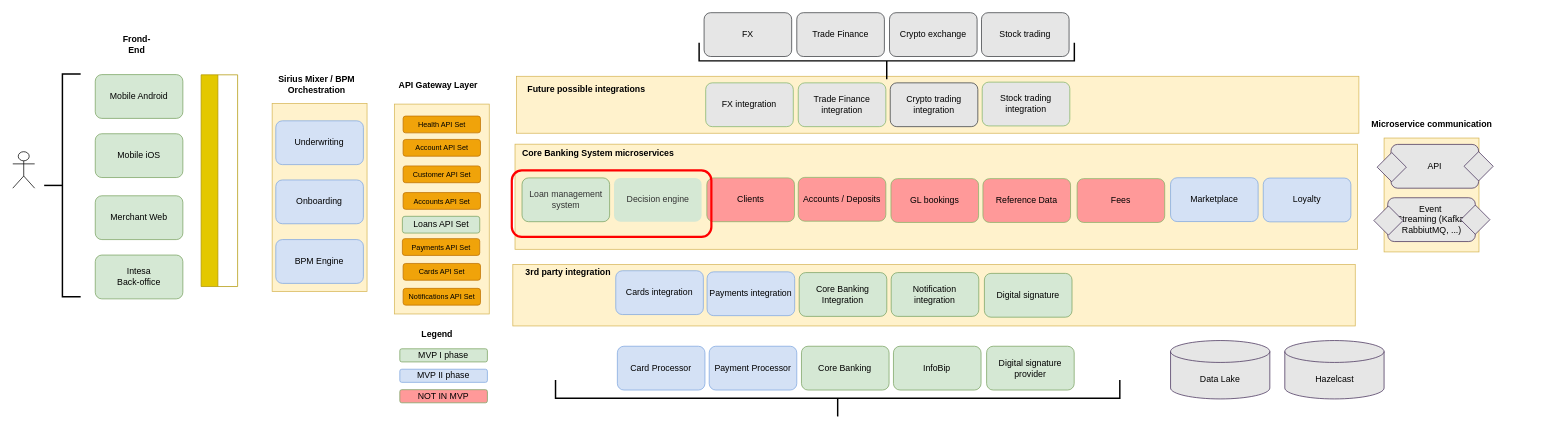
Image size: 1558x430. Some labels were removed from this diagram. The centre of each missing label's shape, as x and y in pixels:
"Actor" belongs at pixel 23 169.
"Authentication" belongs at pixel 219 180.
